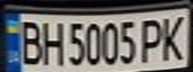0: (100, 18, 121, 66), (84, 19, 103, 66)
5: (118, 17, 142, 65), (63, 19, 84, 66)
B: (15, 17, 45, 65)
H: (36, 18, 66, 65)
K: (157, 12, 190, 62)
P: (136, 16, 166, 64)
